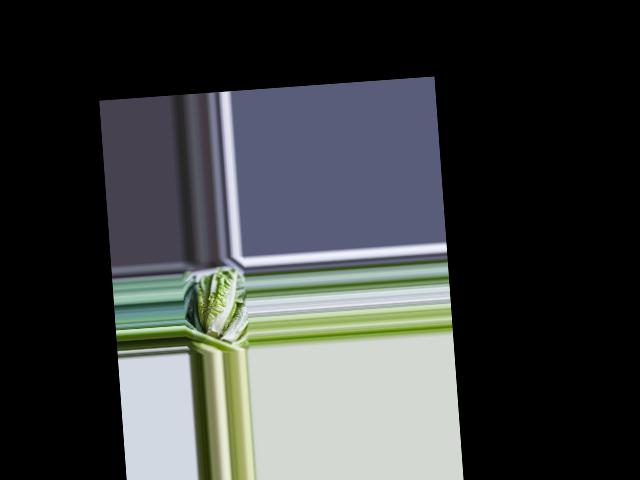lettuce: (194, 267, 242, 339)
